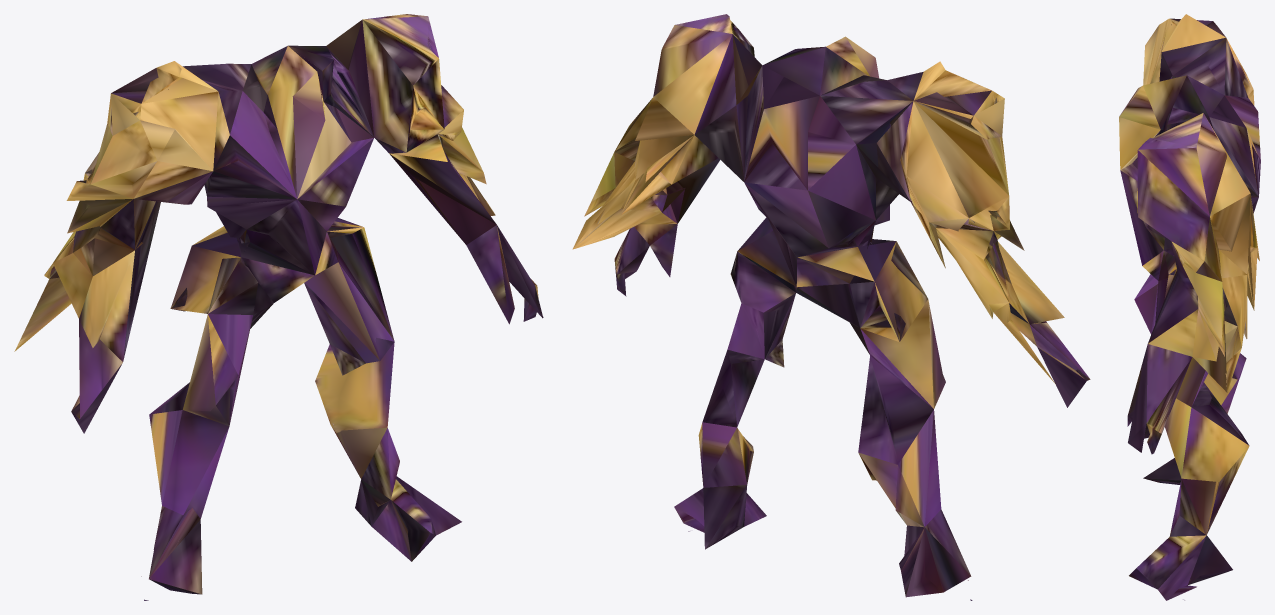
The model's file is violet_phoenix_lod2.glb.
The picture shows the model from 3 angles, left to right: view 1: azimuth 30°, elevation 25°; view 2: azimuth 150°, elevation 25°; view 3: azimuth 270°, elevation 25°; orthographic projection. The views are drawn at different scales.
Parts seen in each view (by area): view 1: Mesh_0; view 2: Mesh_0; view 3: Mesh_0.
Boxes of the visible parts, bbox=[...] form: Mesh_0: bbox=[14, 14, 543, 600]; Mesh_0: bbox=[572, 14, 1090, 600]; Mesh_0: bbox=[1119, 14, 1260, 600].
Size of the model in its own units: 1.59 by 1.67 by 0.4513.
Materials: 1 (1 with a texture image).
